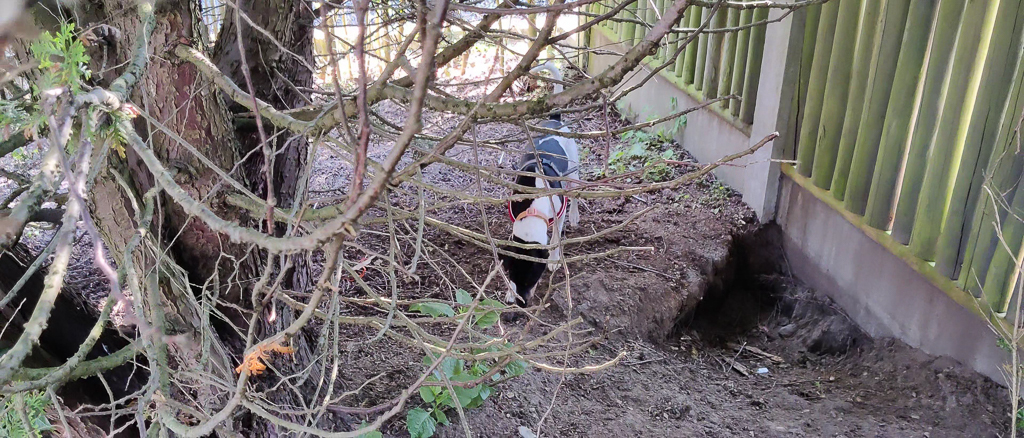Dog: (487, 58, 602, 314)
